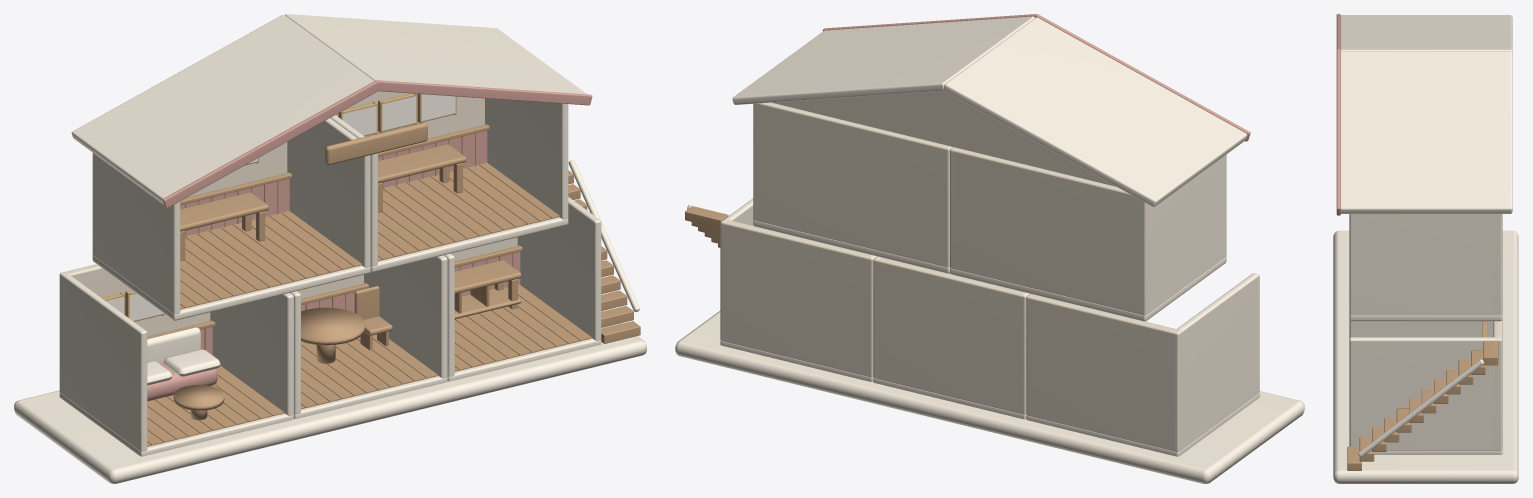
File: memory-house.glb
3 views of the same model, side by side, from view 1: azimuth 30°, elevation 25°; view 2: azimuth 150°, elevation 25°; view 3: azimuth 270°, elevation 25° (orthographic). The views are drawn at different scales.
Parts seen in each view (by area): view 1: Pitched roof, room_beginning / Porcelain, room_memories / Porcelain, Floating plinth, room_memories / Pale oak, room_next-chapter / Pale oak, Pitched roof.001, room_next-chapter / Porcelain, room_first / Pale oak, room_little-things / Porcelain, room_little-things / Pale oak, room_first / Porcelain (+15 smaller); view 2: Pitched roof, room_next-chapter / Ivory plaster, room_memories / Ivory plaster, room_little-things / Ivory plaster, room_first / Ivory plaster, room_beginning / Ivory plaster, Floating plinth, Pitched roof.001, room_beginning / Porcelain, room_memories / Porcelain, Gable, room_little-things / Porcelain (+3 smaller); view 3: Pitched roof.001, room_little-things / Porcelain, room_next-chapter / Porcelain, Floating plinth, Pitched roof, Stair outer rail, Roof blush fascia.001, room_little-things / Ivory plaster, Stair step, room_next-chapter / Ivory plaster, Stair step.011, Stair step.008 (+9 smaller).
Boxes of the visible parts, x1,y1,x2,y2 form: Pitched roof: (71, 15, 374, 204); room_beginning / Porcelain: (59, 272, 293, 456); room_memories / Porcelain: (92, 118, 370, 320); Floating plinth: (14, 310, 646, 483); room_memories / Pale oak: (180, 172, 361, 309); room_next-chapter / Pale oak: (378, 124, 559, 261); Pitched roof.001: (285, 14, 586, 94); room_next-chapter / Porcelain: (330, 98, 568, 272); room_first / Pale oak: (301, 283, 437, 409); room_little-things / Porcelain: (444, 197, 601, 381); room_little-things / Pale oak: (454, 245, 591, 371); room_first / Porcelain: (290, 255, 447, 418); Pitched roof: (944, 17, 1247, 206); room_next-chapter / Ivory plaster: (753, 102, 952, 267); room_memories / Ivory plaster: (950, 147, 1149, 315); room_little-things / Ivory plaster: (720, 219, 875, 377); room_first / Ivory plaster: (873, 257, 1028, 414); room_beginning / Ivory plaster: (1026, 294, 1181, 451); Floating plinth: (675, 311, 1304, 483); Pitched roof.001: (732, 16, 1034, 104); room_beginning / Porcelain: (1026, 273, 1259, 456); room_memories / Porcelain: (950, 147, 1226, 321); Gable: (772, 91, 1115, 186); room_little-things / Porcelain: (720, 198, 876, 381); Pitched roof.001: (1341, 51, 1512, 213); room_little-things / Porcelain: (1349, 319, 1502, 454); room_next-chapter / Porcelain: (1349, 214, 1502, 321); Floating plinth: (1333, 230, 1518, 483); Pitched roof: (1341, 15, 1512, 52); Stair outer rail: (1358, 359, 1484, 457); Roof blush fascia.001: (1336, 49, 1340, 215); room_little-things / Ivory plaster: (1493, 319, 1502, 449); Stair step: (1483, 341, 1498, 365); room_next-chapter / Ivory plaster: (1495, 214, 1502, 314); Stair step.011: (1347, 446, 1361, 470); Stair step.008: (1384, 417, 1399, 442).
Bounding box in the file's own units: 9.89 × 5.9 × 3.15.
